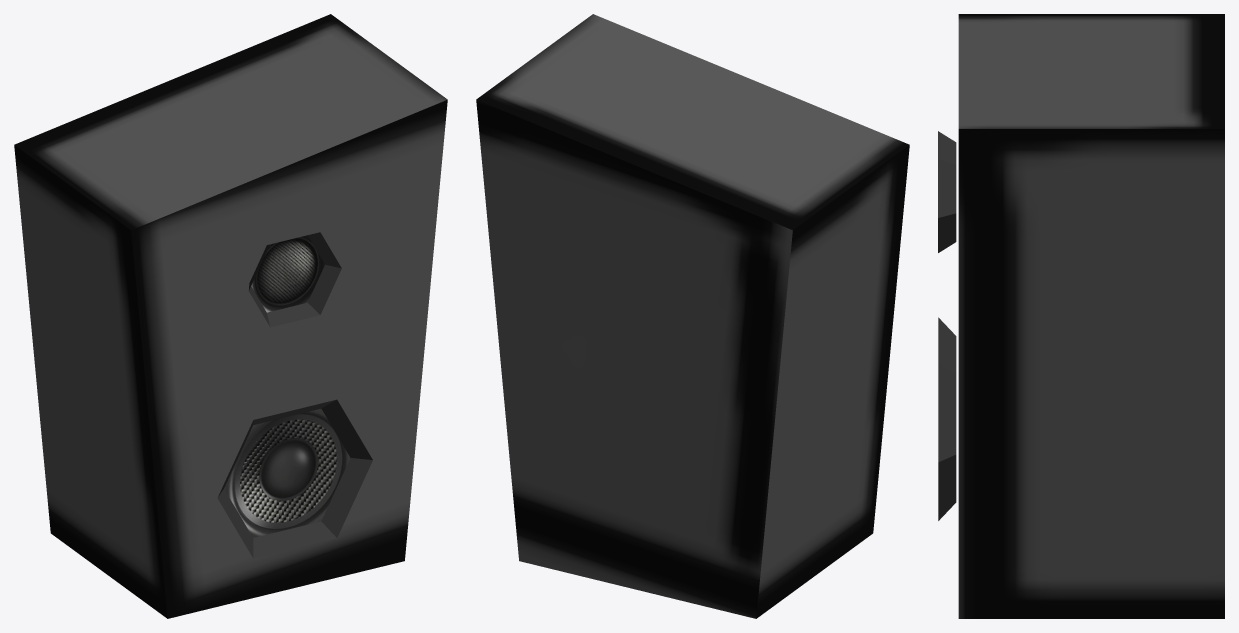
File: Speakers.fbx
3 renders of one model, left to right at view 1: azimuth 30°, elevation 25°; view 2: azimuth 150°, elevation 25°; view 3: azimuth 270°, elevation 25°, orthographic. The views are drawn at different scales.
Parts seen in each view (by area): view 1: Cube; view 2: Cube; view 3: Cube.
Part boxes in pixels (x1,y1,x2,y2): Cube: (14, 14, 447, 618); Cube: (476, 14, 909, 618); Cube: (938, 14, 1224, 618).
Size of the model in its own units: 325 by 443 by 224.
